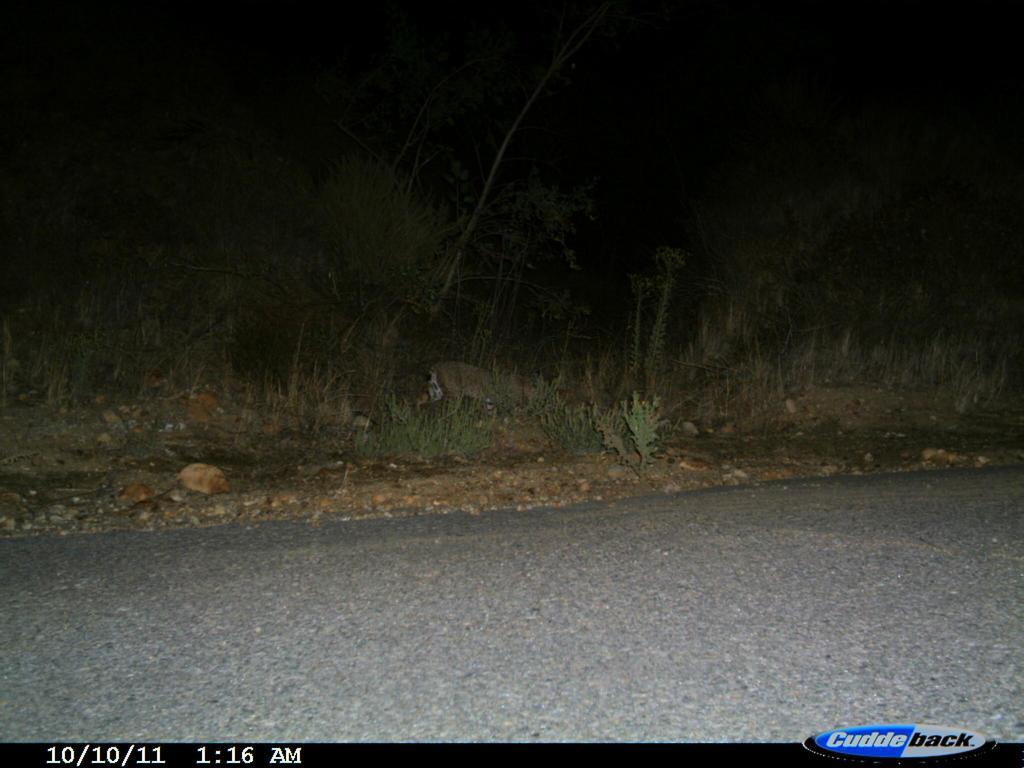bobcat: (399, 351, 561, 429)
